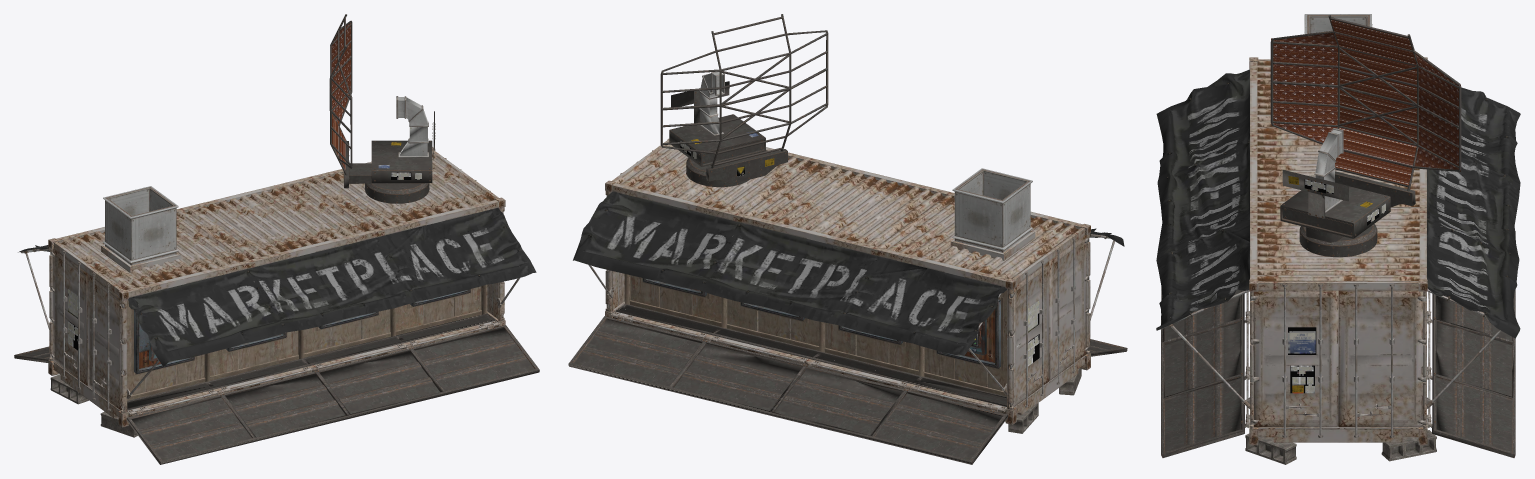
File: marketplace_terminal.glb
3 renders of one model, left to right at view 1: azimuth 30°, elevation 25°; view 2: azimuth 150°, elevation 25°; view 3: azimuth 270°, elevation 25°, orthographic. The views are drawn at different scales.
Visible parts, largest first — view 1: marketpalce_terminal_LOD0, marketplace_radar_LOD0; view 2: marketpalce_terminal_LOD0, marketplace_radar_LOD0; view 3: marketpalce_terminal_LOD0, marketplace_radar_LOD0.
Boxes of the visible parts, x1,y1,x2,y2 form: marketpalce_terminal_LOD0: (14,147,539,464); marketplace_radar_LOD0: (329,14,435,203); marketpalce_terminal_LOD0: (568,126,1127,464); marketplace_radar_LOD0: (660,14,828,187); marketpalce_terminal_LOD0: (1156,14,1520,464); marketplace_radar_LOD0: (1270,15,1461,257).
Bounding box in the file's own units: 9.3 × 6.87 × 6.13.
9 materials, 9 textured.
